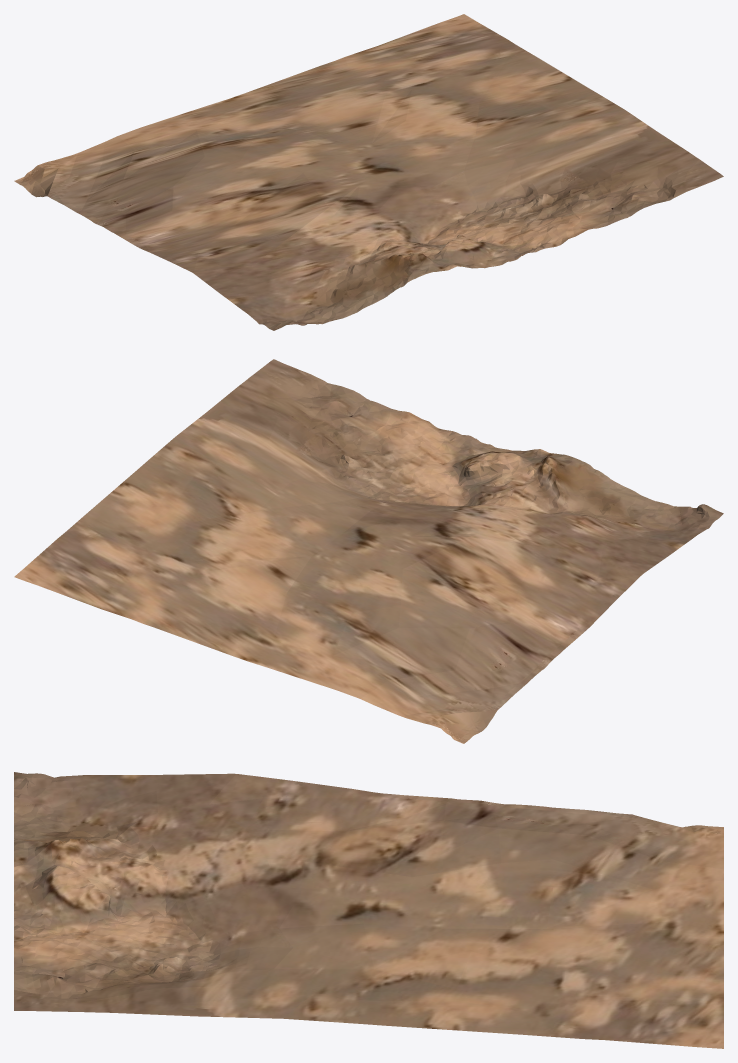
3 renders of one model, top to bottom at view 1: azimuth 30°, elevation 25°; view 2: azimuth 150°, elevation 25°; view 3: azimuth 270°, elevation 25°, orthographic. The views are drawn at different scales.
Bounding box in the file's own units: 2.09 × 0.3804 × 2.09.
3 materials, 3 textured.
